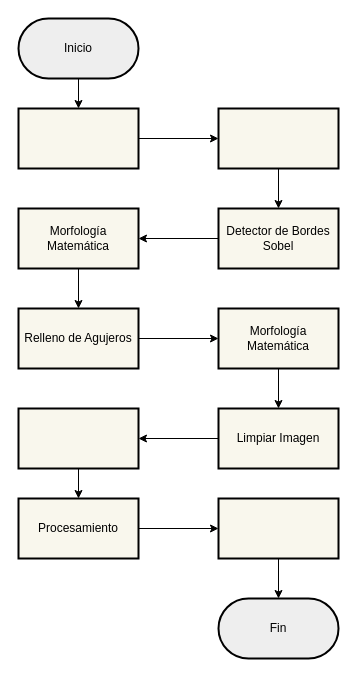
Image size: 356x676. Some labels were removed from this diagram. The shapes that lost their labels are listed below. From the top down, each one's centre as x and y in pixels, then its label:
At point (78, 138): "Leer Imagen".
At point (278, 138): "Convertir a Escala de Grises".
At point (78, 438): "Segmentación de Imagen".
At point (278, 528): "Elección de Imagen Placa Ideal".
